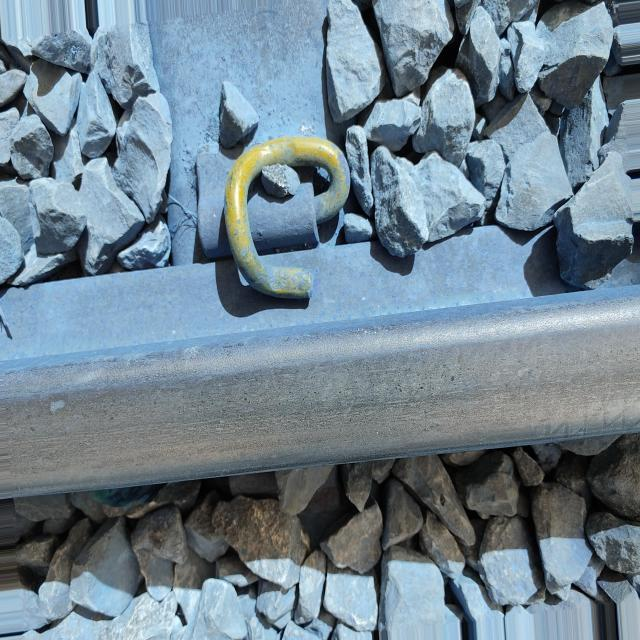Good Fasteners: (160, 110, 364, 323)
